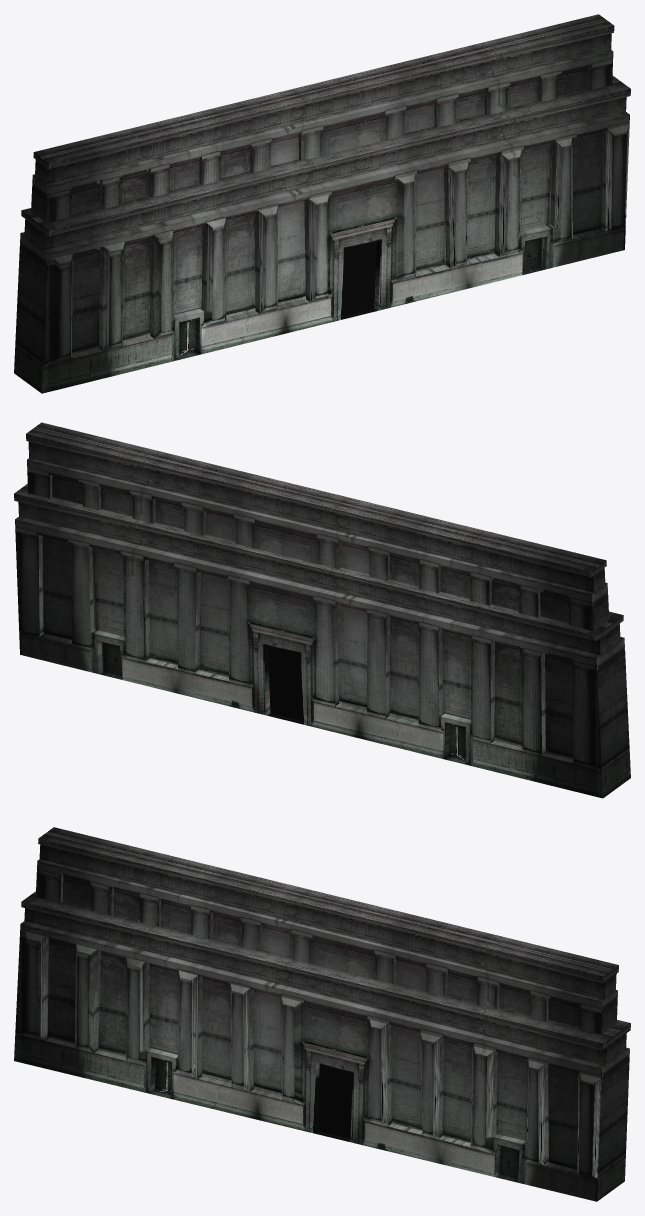
The model's file is wall.FBX.
3 renders of one model, top to bottom at view 1: azimuth 30°, elevation 25°; view 2: azimuth 150°, elevation 25°; view 3: azimuth 330°, elevation 25°, orthographic.
Visible parts, largest first — view 1: wall; view 2: wall; view 3: wall.
Boxes of the visible parts, left/top/right/bottom form: wall: left=14, top=14, right=630, bottom=393; wall: left=14, top=422, right=630, bottom=798; wall: left=14, top=827, right=630, bottom=1201.
Bounding box in the file's own units: 270 × 96.51 × 24.21.
Materials: 1 (1 with a texture image).
